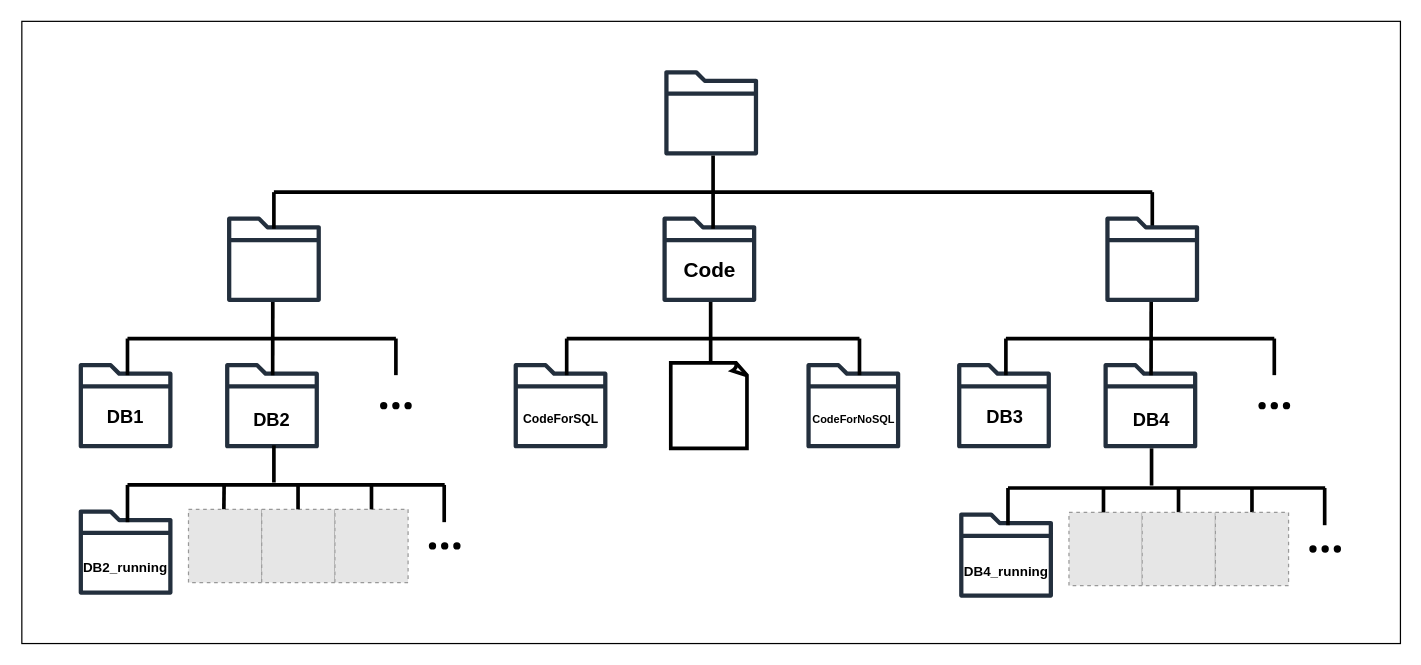
This 1421x665 diagram has some shape labels left out. Grey dashed boxes stand in for pictures. The centre of each missing label's shape, as x and y in pixels:
main.py: [708,405]
NoSQL_DB: [1152,258]
ourDB: [710,112]
SQL_DB: [273,258]
